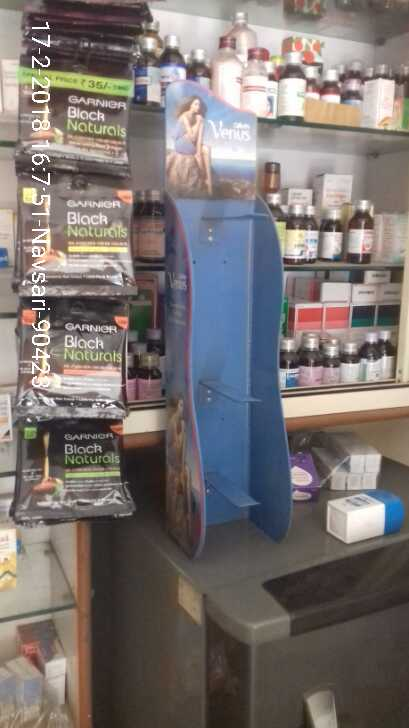reject: (131, 253, 270, 411)
